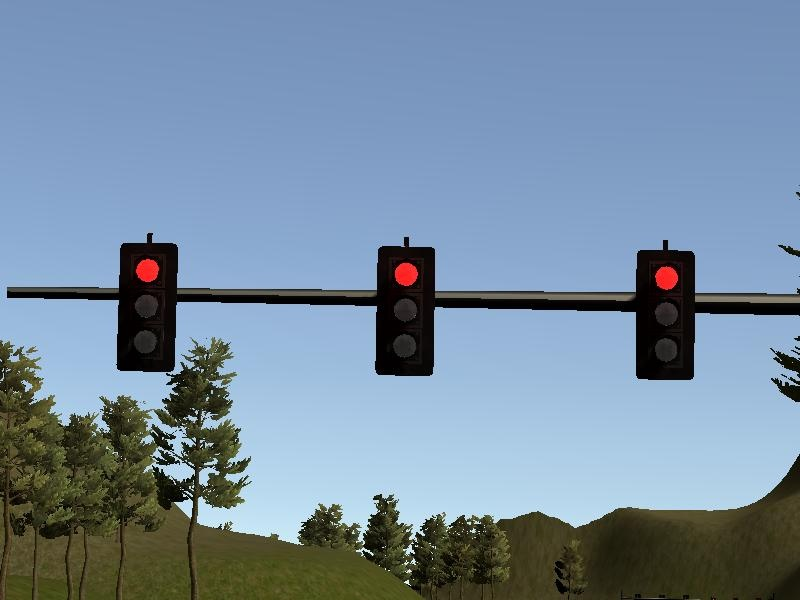red: (376, 247, 435, 376), (636, 249, 695, 378), (119, 245, 177, 374)
